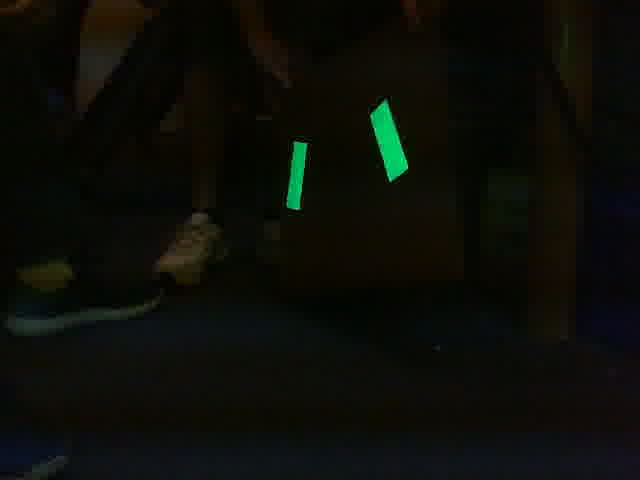target: (284, 98, 409, 213)
